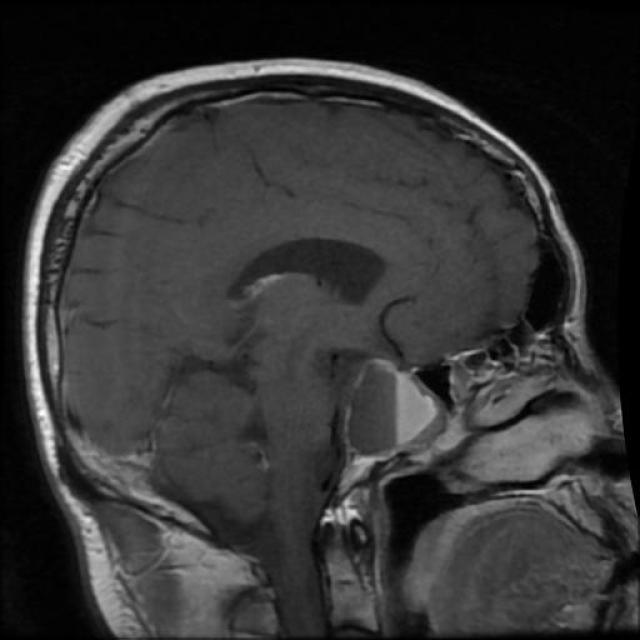pituitary: (328, 349, 444, 461)
